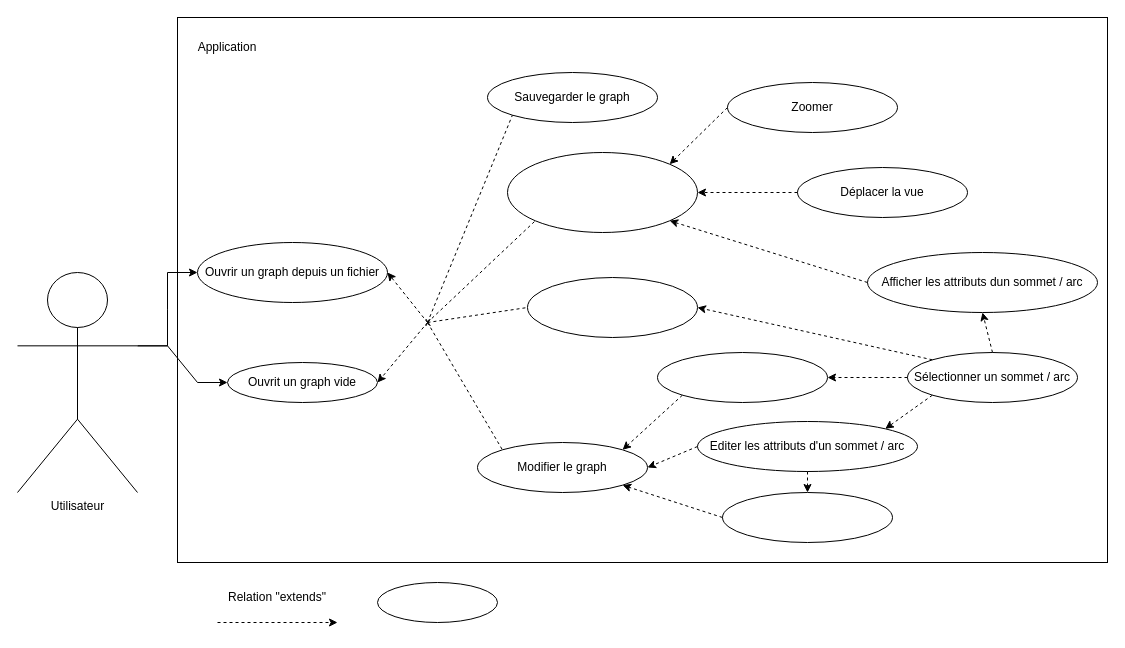
Image size: 1125x648. Some labels were removed from this diagram. Here are the shapes that lost their labels. From the top down, the centre of each, then its label:
the point at 602,192: Visualiser le graph de façon interactive
the point at 612,307: Calculer un itinéraire
the point at 742,377: Supprimer des sommet / arcs
the point at 807,517: Ajouter des sommet / arcs
the point at 437,602: Fonctionnlité
